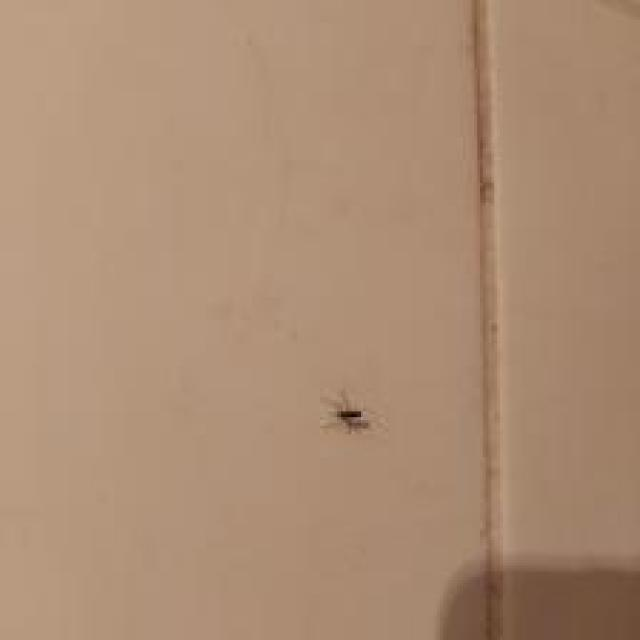Aedes albopictus: (317, 387, 383, 436)
